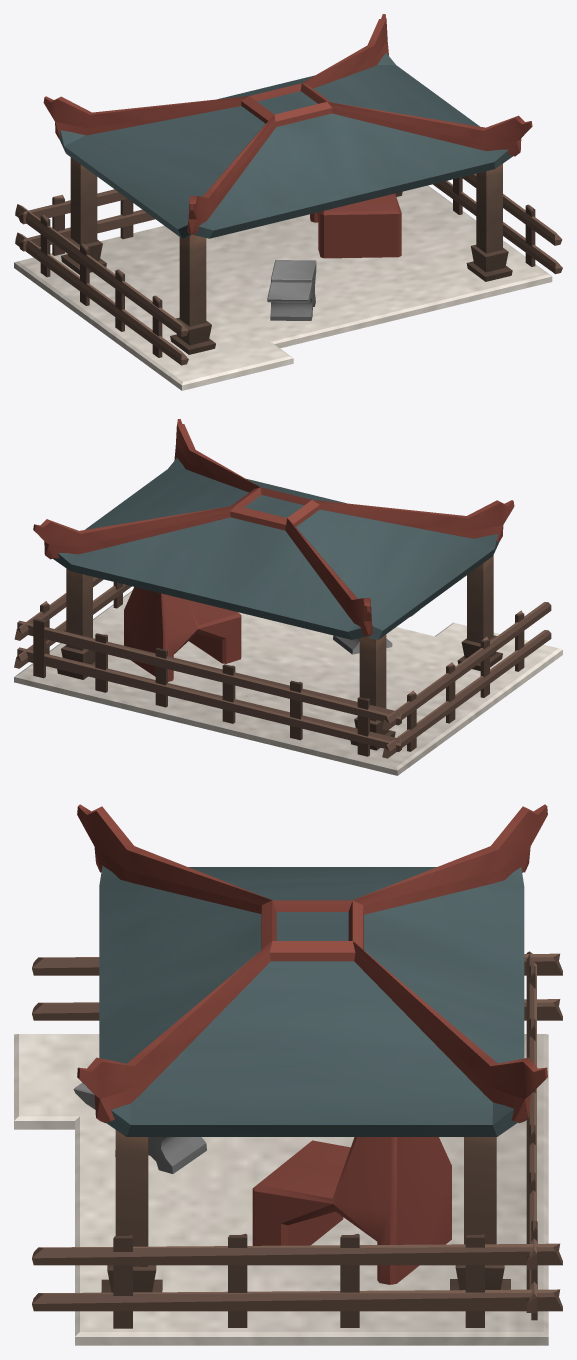
The model's file is blacksmith_1lvl.fbx.
The picture shows the model from 3 angles, top to bottom: view 1: azimuth 30°, elevation 25°; view 2: azimuth 150°, elevation 25°; view 3: azimuth 270°, elevation 25°; orthographic projection. The views are drawn at different scales.
Parts seen in each view (by area): view 1: blacksmith_1lvl; view 2: blacksmith_1lvl; view 3: blacksmith_1lvl.
Boxes of the visible parts, <box> form: blacksmith_1lvl: <box>14,14,562,390</box>; blacksmith_1lvl: <box>14,419,562,775</box>; blacksmith_1lvl: <box>14,804,562,1345</box>.
Size of the model in its own units: 6.01 by 2.57 by 4.6.
1 material, 1 textured.
